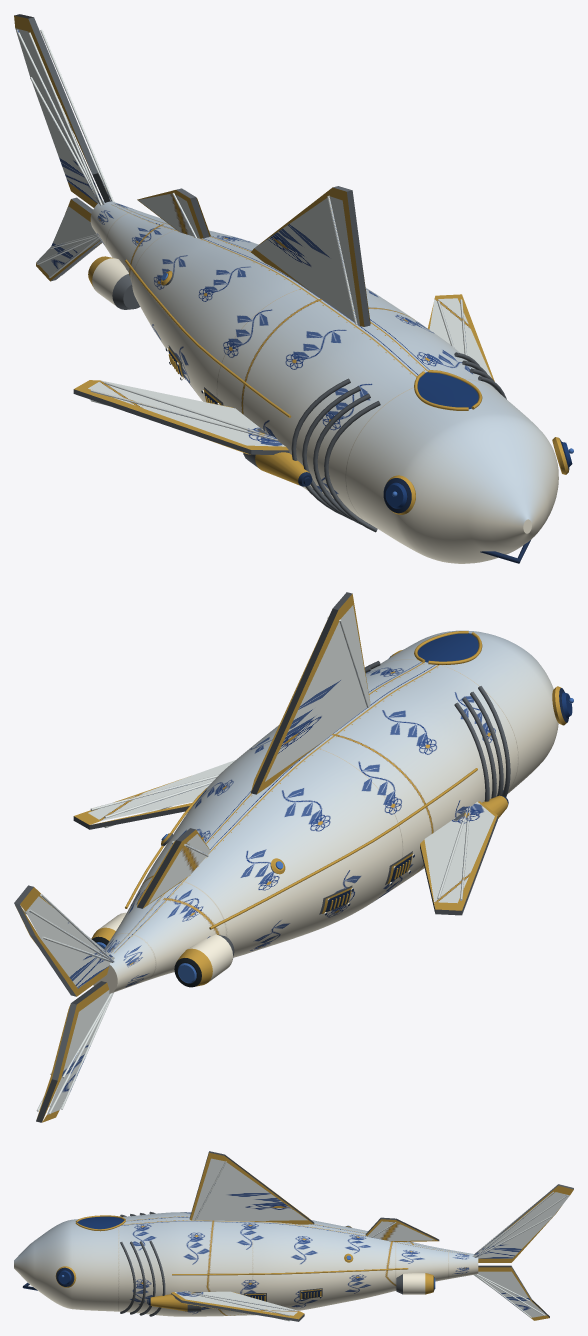
3 renders of one model, top to bottom at view 1: azimuth 30°, elevation 25°; view 2: azimuth 150°, elevation 25°; view 3: azimuth 270°, elevation 25°, orthographic. The views are drawn at different scales.
Parts seen in each view (by area): view 1: tiger_shark_hull; view 2: tiger_shark_hull; view 3: tiger_shark_hull.
Boxes of the visible parts, x1,y1,x2,y2 form: tiger_shark_hull: (14, 14, 573, 563); tiger_shark_hull: (14, 592, 573, 1122); tiger_shark_hull: (14, 1151, 573, 1321).
Size of the model in its own units: 105 by 79.56 by 240.
1 material, 1 textured.
